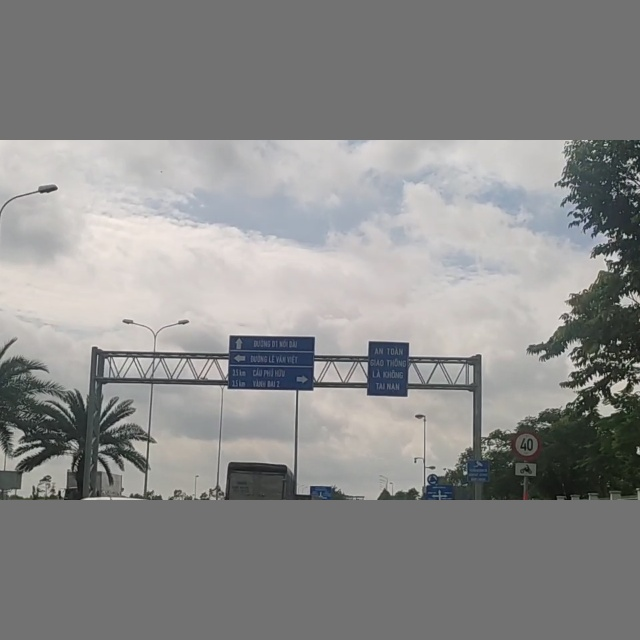P.127*40: (511, 431, 541, 459)
S.505a*Xe may: (512, 460, 541, 479)
